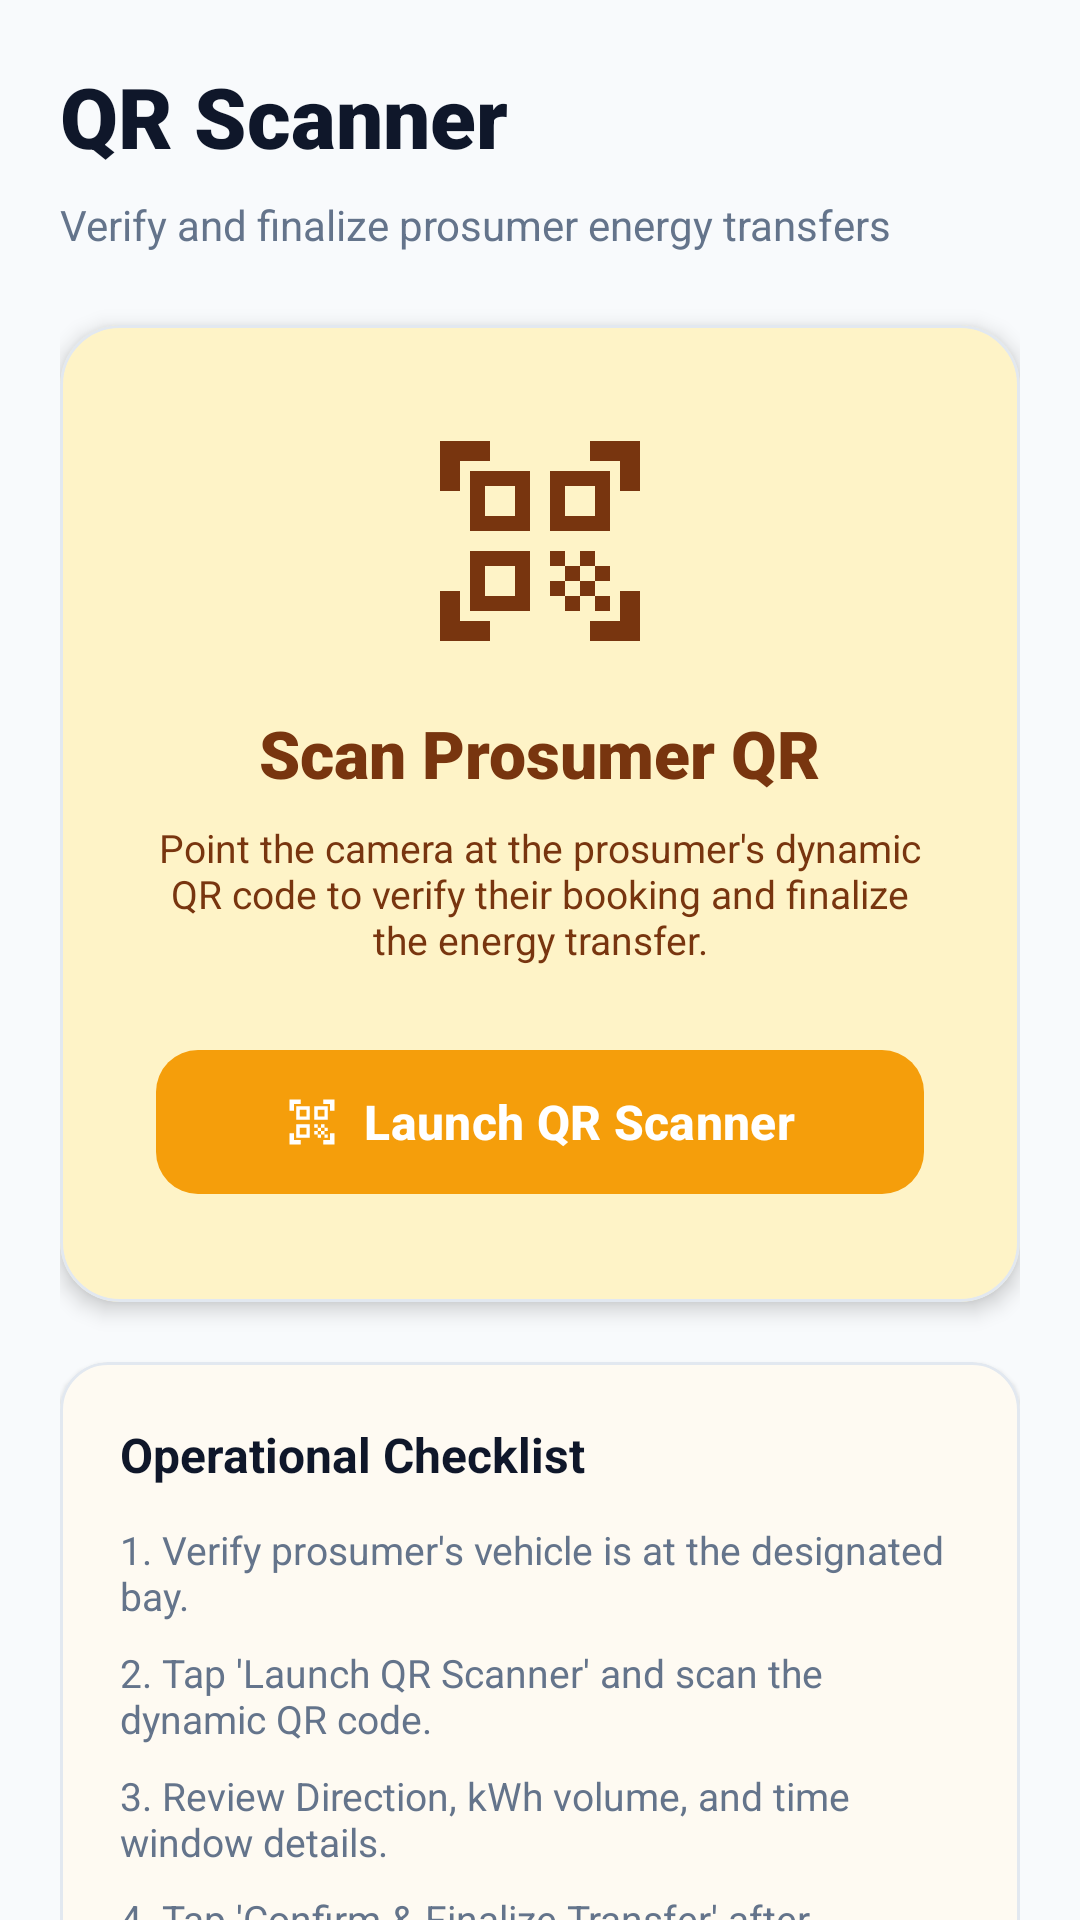

Icon click points for this 1080px×1920px phone screenshot, format [x,y]:
qr code scanner: [540,541]
